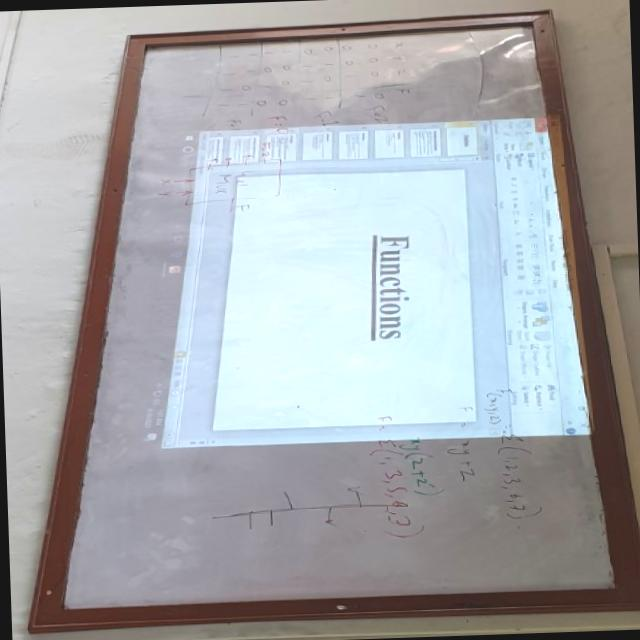Slide: (137, 115, 601, 449)
White-board: (42, 15, 629, 618)
